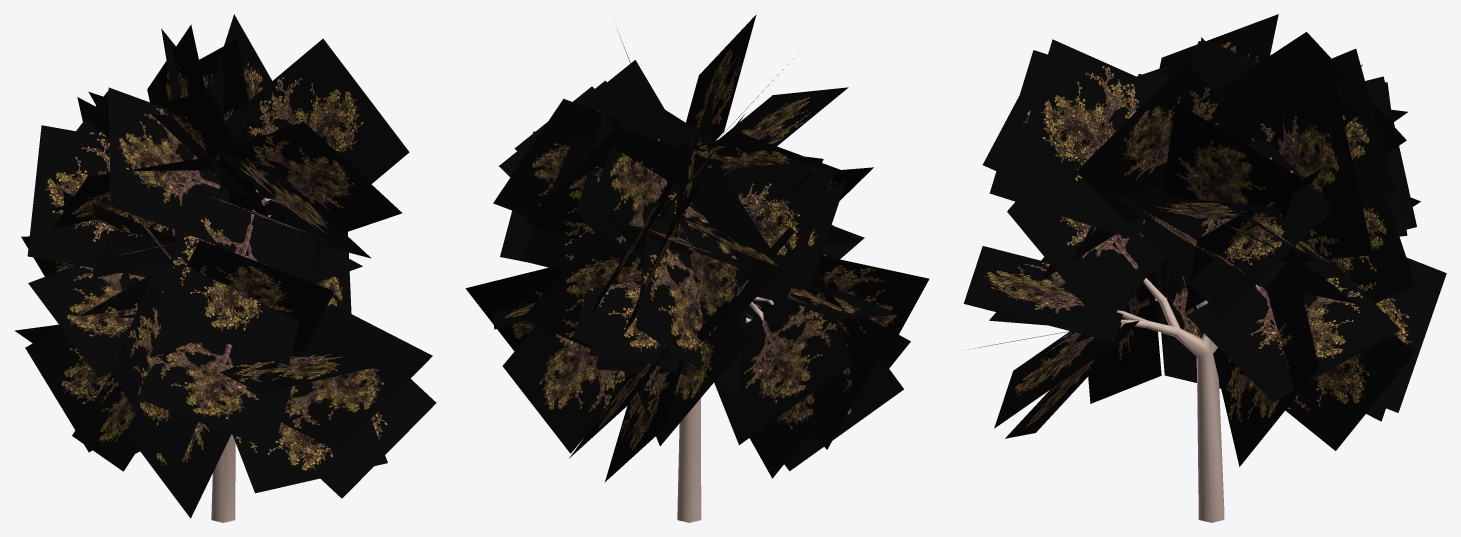
Rendered from tree39.glb.
3 views of the same model, side by side, from view 1: azimuth 30°, elevation 25°; view 2: azimuth 150°, elevation 25°; view 3: azimuth 270°, elevation 25° (orthographic). The views are drawn at different scales.
Size of the model in its own units: 5.98 by 7.11 by 6.29.
Materials: 2 (1 with a texture image).
